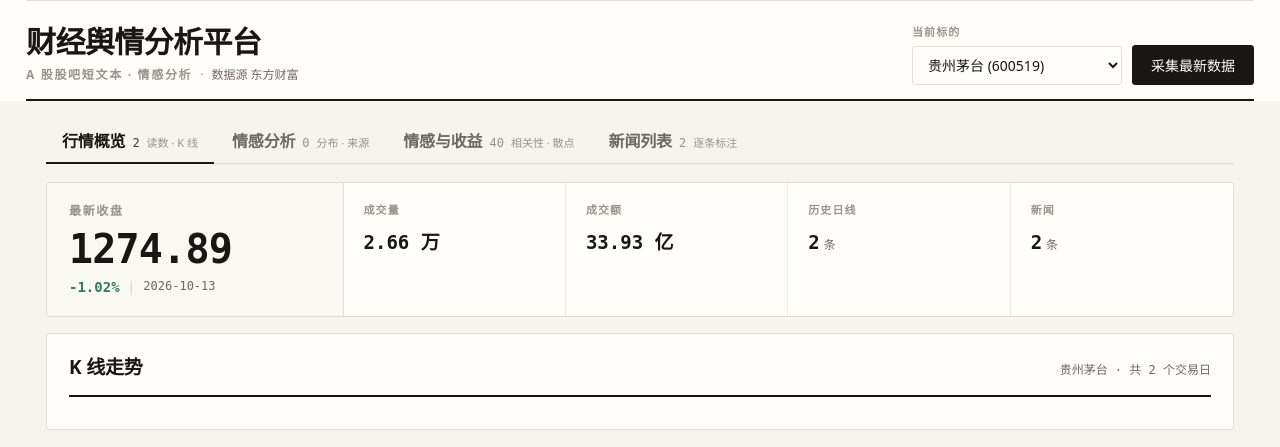
情感分析面板 › 有模型但该股无标注时提示去采集
This screenshot has width=1280, height=447.
Click the tab "情感分析 0 分布 · 来源". click: (301, 141)
box: [216,119,385,163]
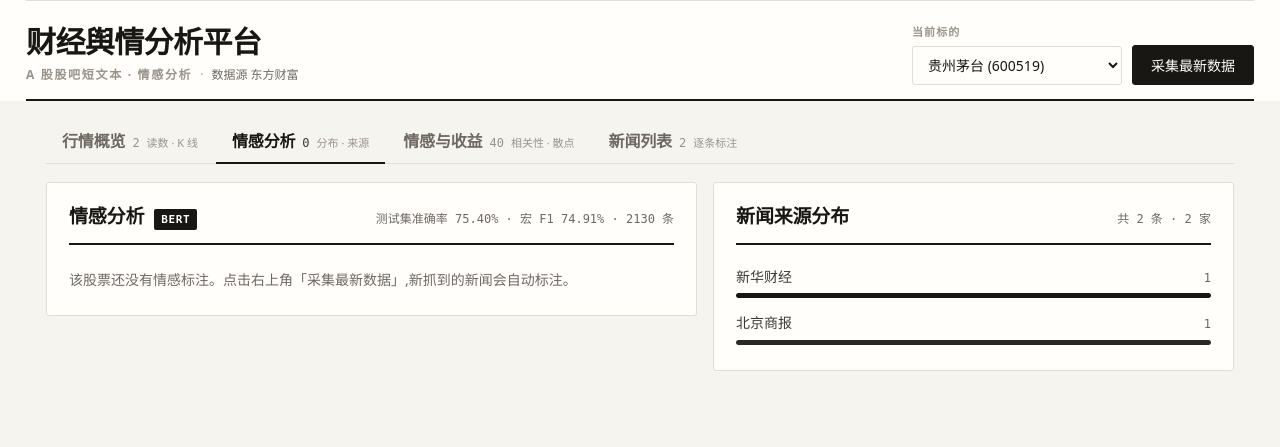
Expected: the text "还没有情感标注" is shown, [69,270,577,289]
